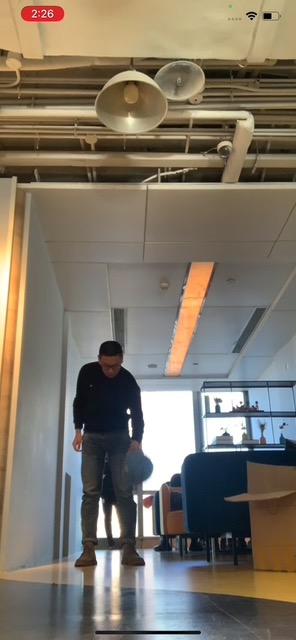ball: (121, 453, 153, 483)
